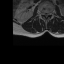CCS_stenosis: (45, 11, 47, 19)
LFS_stenosis: (49, 11, 51, 16)
LLS_stenosis: (47, 11, 49, 17)
RFS_stenosis: (41, 11, 43, 16)
RLS_stenosis: (43, 11, 45, 17)
